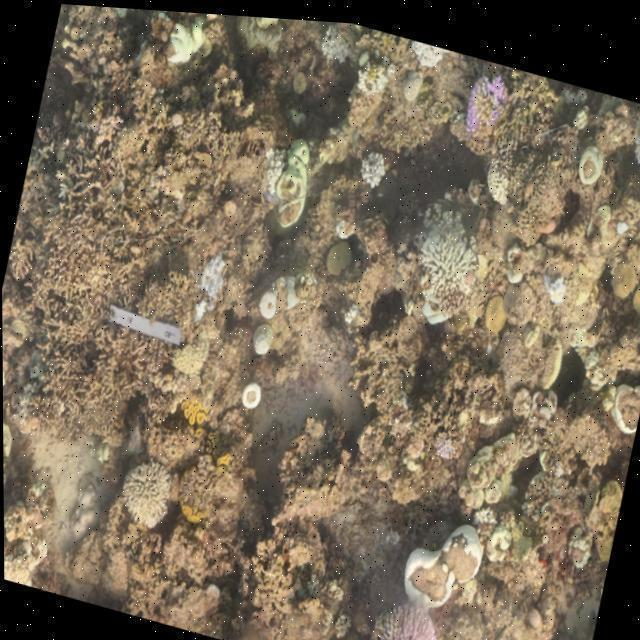Bleached Coral: (375, 490, 499, 621), (397, 182, 491, 319), (475, 137, 527, 213), (187, 240, 233, 310), (399, 32, 448, 88), (311, 16, 359, 73), (349, 131, 391, 191), (532, 244, 572, 305), (237, 312, 283, 365), (428, 626, 506, 640), (336, 292, 360, 326)
